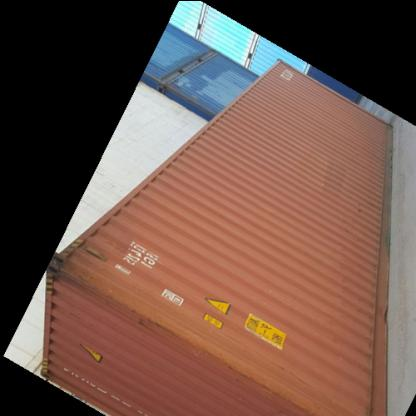Damage: (174, 326, 280, 400), (70, 258, 168, 326)
